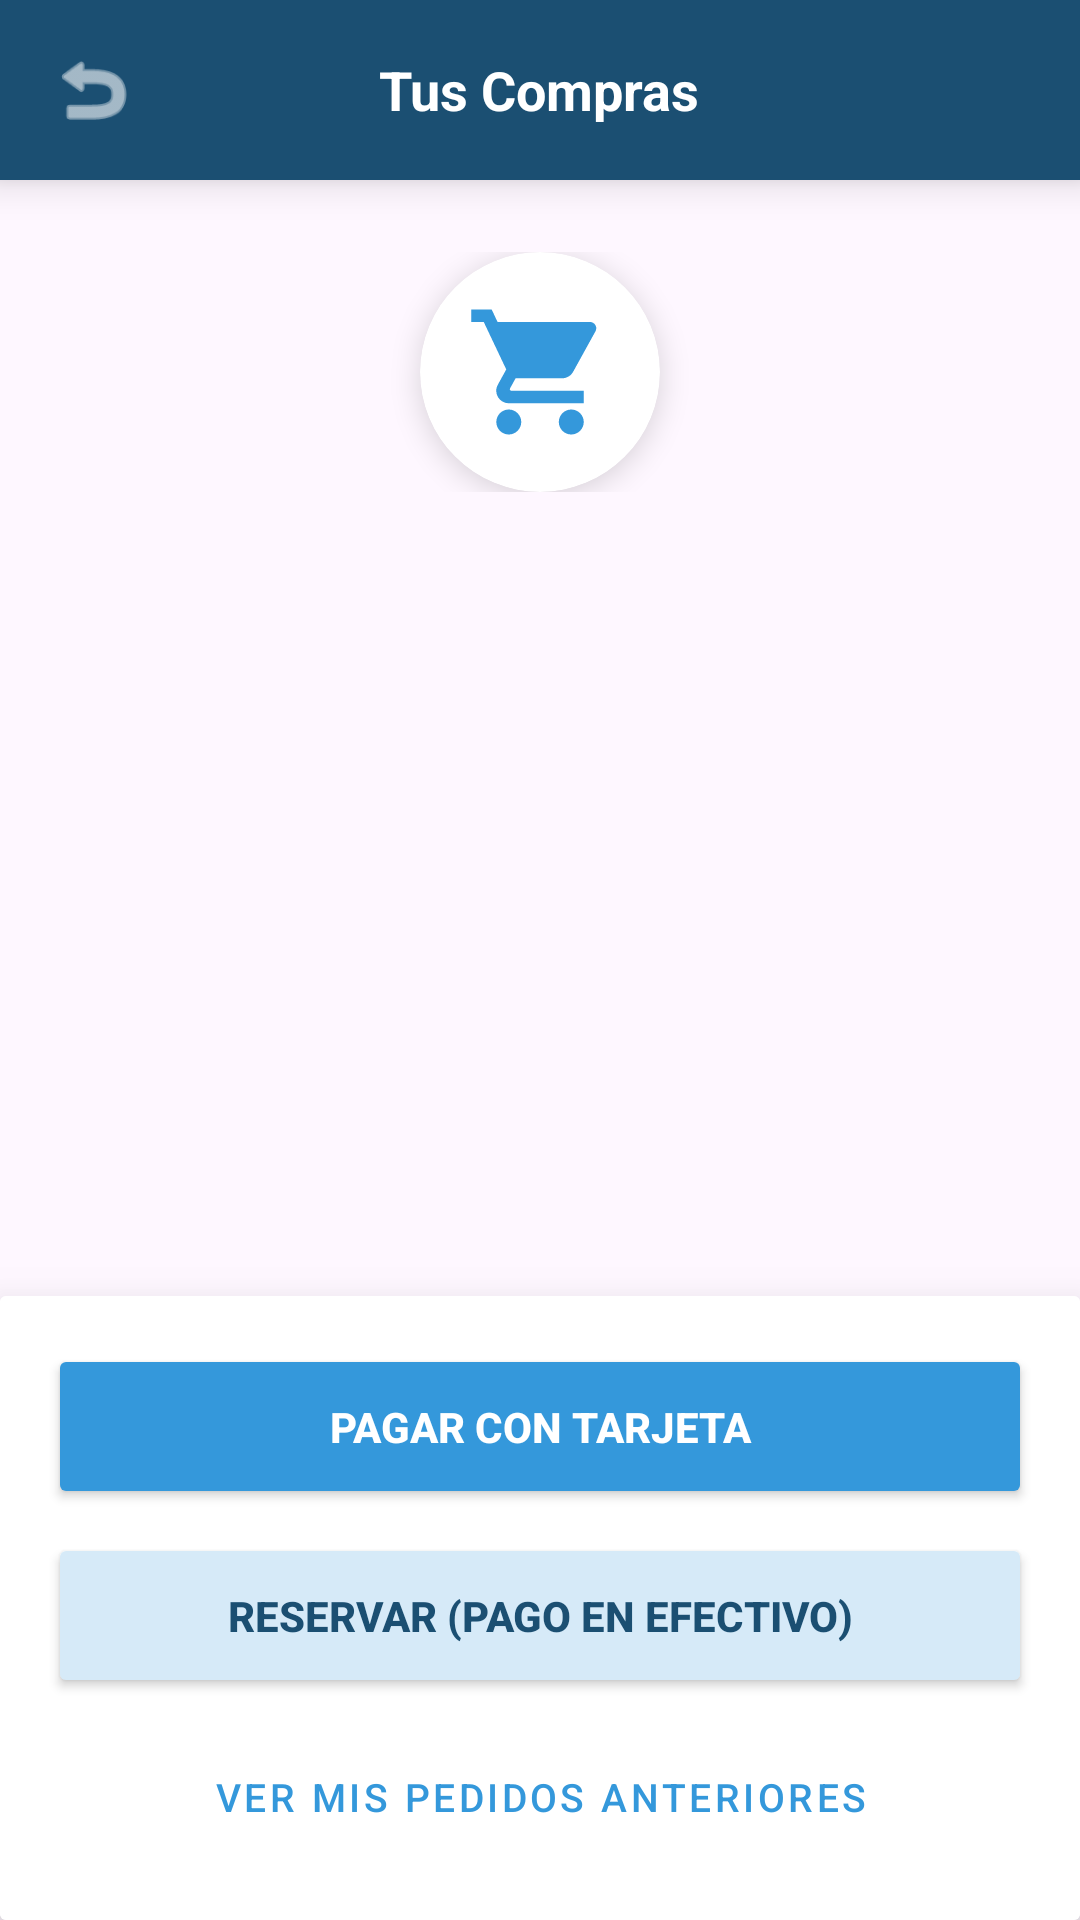

Screen size 1080 × 1920. Icon name, then its center in pixels as [x,y]:
Atrás: [94,90]
Icono Carrito: [540,372]
